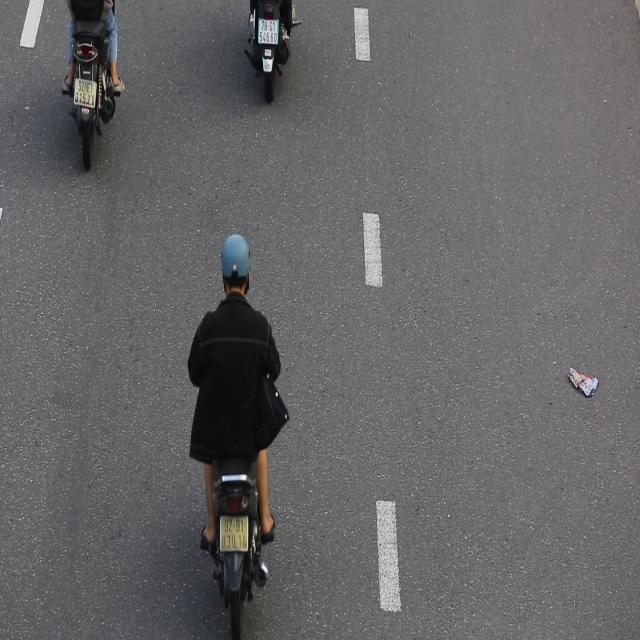motorbike: (188, 235, 286, 640)
